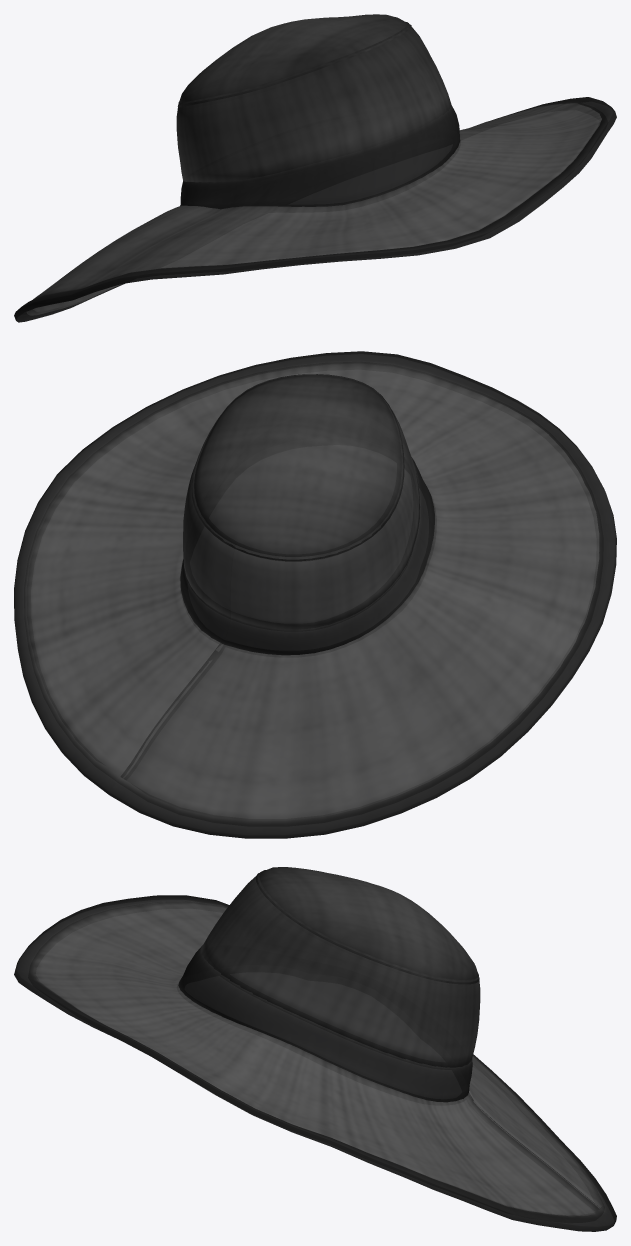
Rendered from SimpleHatForRayII.fbx.
3 views of the same model, one above another, from view 1: azimuth 30°, elevation 25°; view 2: azimuth 150°, elevation 25°; view 3: azimuth 270°, elevation 25° (orthographic). The views are drawn at different scales.
Visible parts, largest first — view 1: HatLP; view 2: HatLP; view 3: HatLP.
Part boxes in pixels (box(x1,y1,x2,y2)): HatLP: box(14, 14, 616, 322); HatLP: box(14, 351, 616, 838); HatLP: box(14, 867, 616, 1231).
Size of the model in its own units: 42.5 by 25.49 by 41.59.
